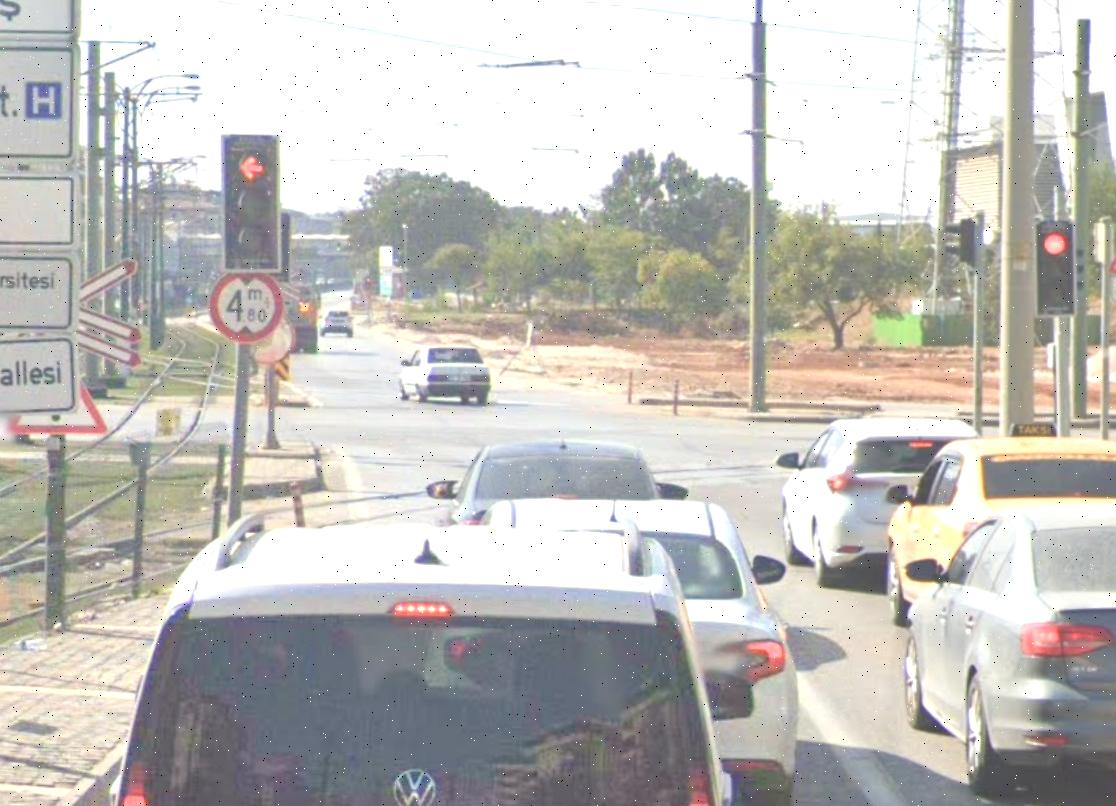redlight: (218, 135, 282, 273), (1033, 220, 1078, 315)
